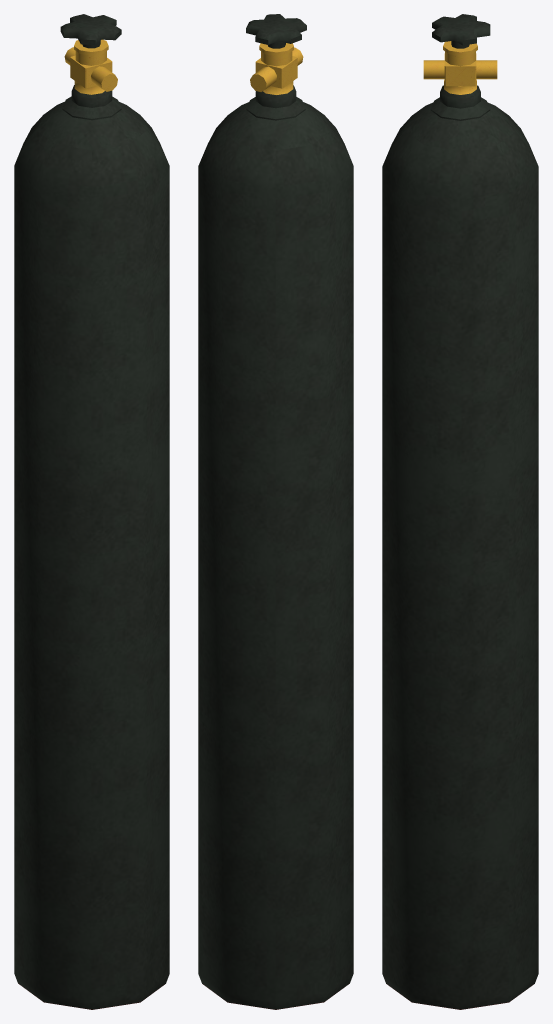
The model's file is SM_氮气钢瓶.fbx.
3 views of the same model, side by side, from view 1: azimuth 30°, elevation 25°; view 2: azimuth 150°, elevation 25°; view 3: azimuth 270°, elevation 25° (orthographic).
Visible parts, largest first — view 1: SM_氮气钢瓶; view 2: SM_氮气钢瓶; view 3: SM_氮气钢瓶.
Boxes of the visible parts, bbox=[...] form: SM_氮气钢瓶: bbox=[14, 14, 169, 1009]; SM_氮气钢瓶: bbox=[198, 14, 353, 1009]; SM_氮气钢瓶: bbox=[382, 14, 538, 1009].
Size of the model in its own units: 0.2224 by 1.54 by 0.2276.
